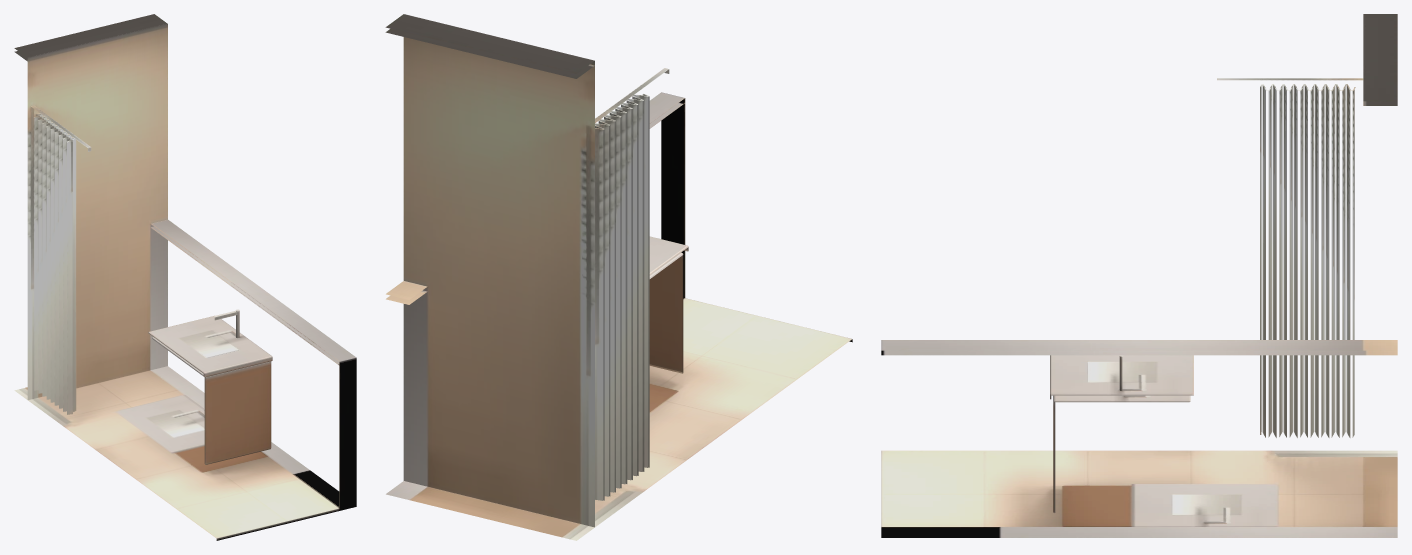
File: side-back-right.glb
3 views of the same model, side by side, from view 1: azimuth 30°, elevation 25°; view 2: azimuth 150°, elevation 25°; view 3: azimuth 270°, elevation 25° (orthographic). The views are drawn at different scales.
Visible parts, largest first — view 1: sideBackRight; view 2: sideBackRight; view 3: sideBackRight.
Part boxes in pixels (x1,y1,x2,y2): sideBackRight: [14, 14, 356, 540]; sideBackRight: [385, 14, 852, 540]; sideBackRight: [881, 14, 1397, 537].
Size of the model in its own units: 1.2 by 2.82 by 3.
1 material, 1 textured.
